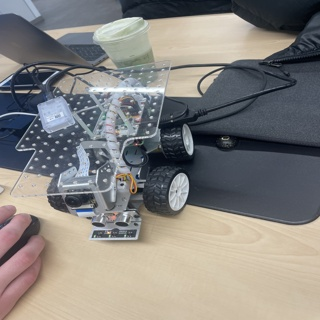vehicle: (10, 60, 192, 239)
